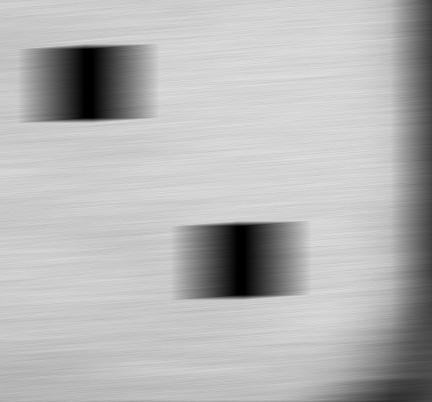Airbag: (0, 1, 432, 401)
